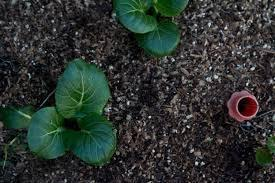Healthy-Pechay: (49, 59, 116, 163), (116, 0, 191, 56), (0, 104, 35, 129), (58, 62, 82, 94), (153, 0, 190, 18), (117, 8, 135, 17), (0, 159, 14, 168), (151, 1, 160, 14), (49, 118, 59, 129)
